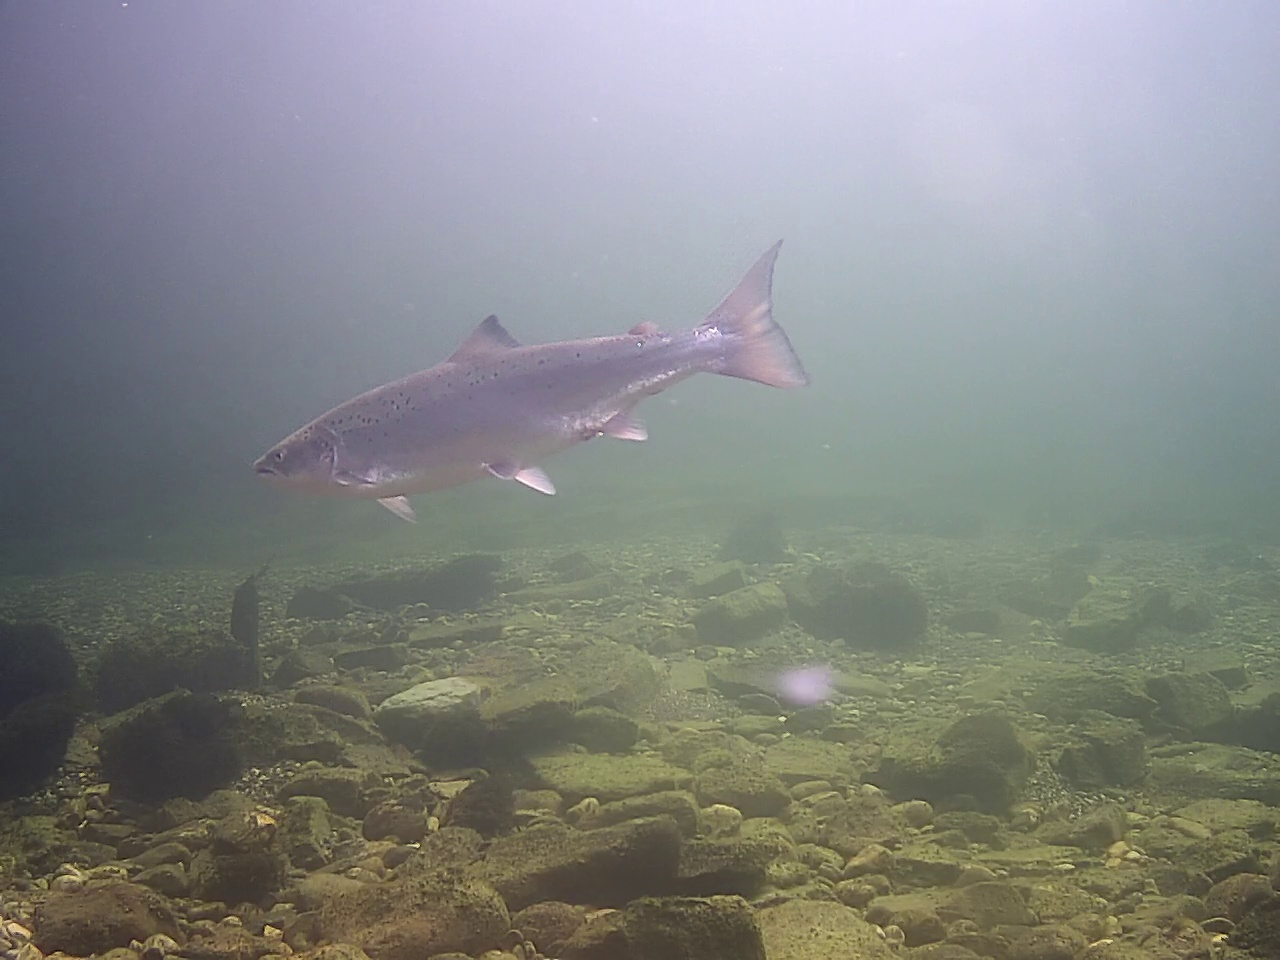salmon: (252, 238, 813, 525)
